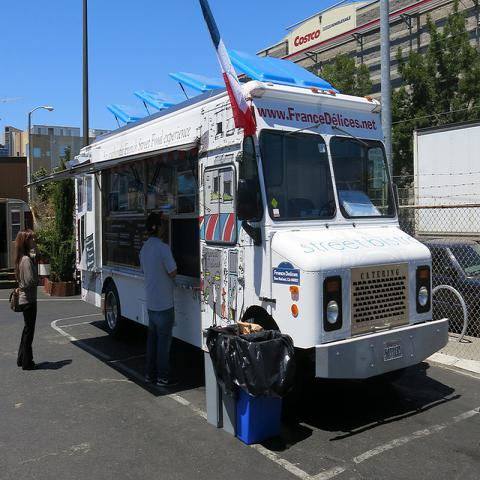car: (422, 239, 480, 338)
truck: (23, 48, 448, 386), (412, 124, 480, 242)
